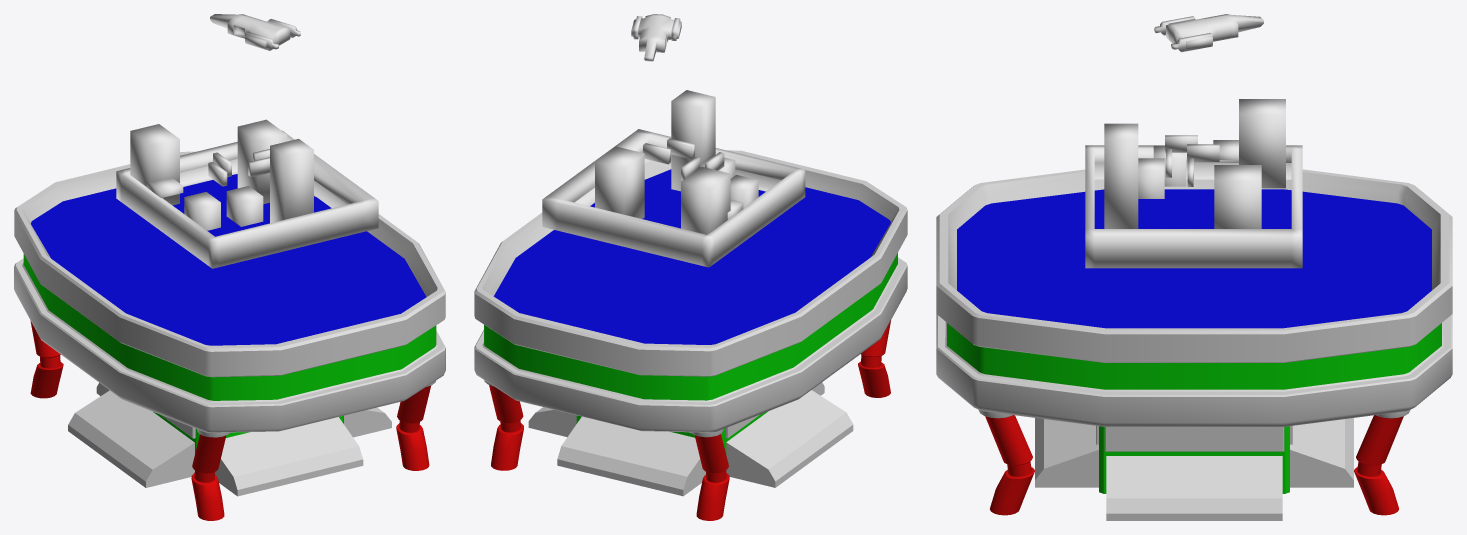
The model's file is Map_and_mode_Table.fbx.
3 views of the same model, side by side, from view 1: azimuth 30°, elevation 25°; view 2: azimuth 150°, elevation 25°; view 3: azimuth 270°, elevation 25° (orthographic). The views are drawn at different scales.
Parts seen in each view (by area): view 1: Table, Hologram; view 2: Table, Hologram; view 3: Table, Hologram.
Part boxes in pixels (box(x1,y1,x2,y2)): Table: box(14, 151, 445, 520); Hologram: box(116, 14, 378, 268); Table: box(474, 150, 907, 520); Hologram: box(542, 14, 805, 267); Table: box(936, 169, 1452, 520); Hologram: box(1085, 14, 1302, 268).
Bounding box in the file's own units: 145 × 110 × 139.
